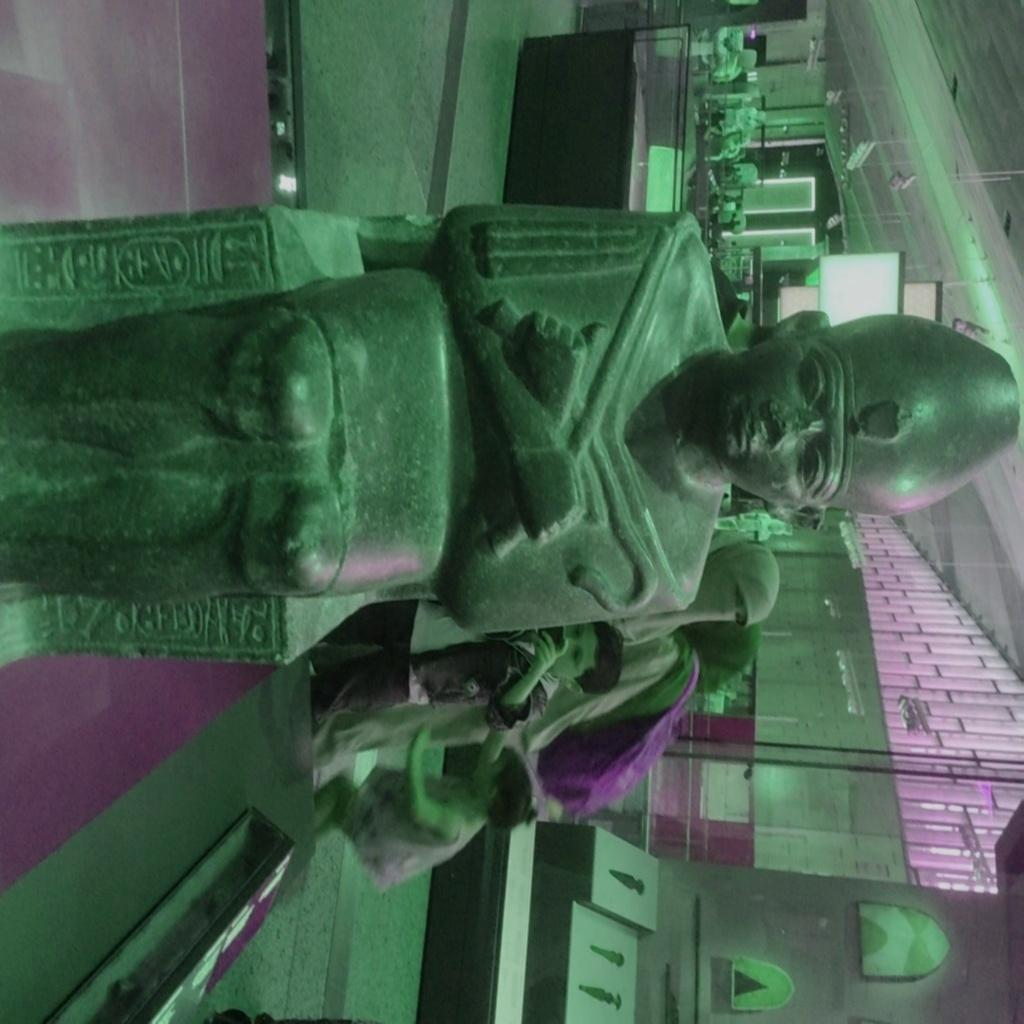Statue of Sobekhotep V: (0, 203, 1024, 659)
